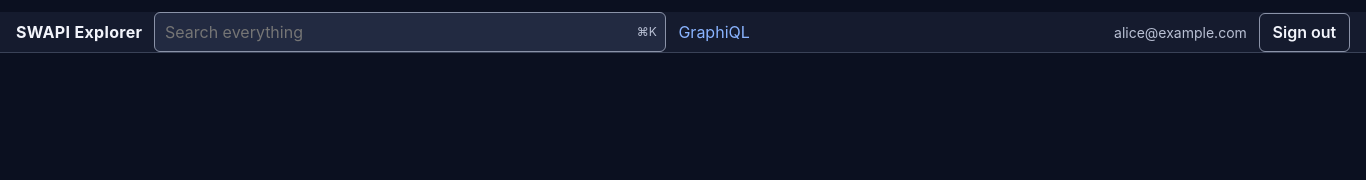
Test: ExplorerBanner › says so when nothing matches
Type "zzz" into the dropdown at (410, 32), box [154,12,666,52]
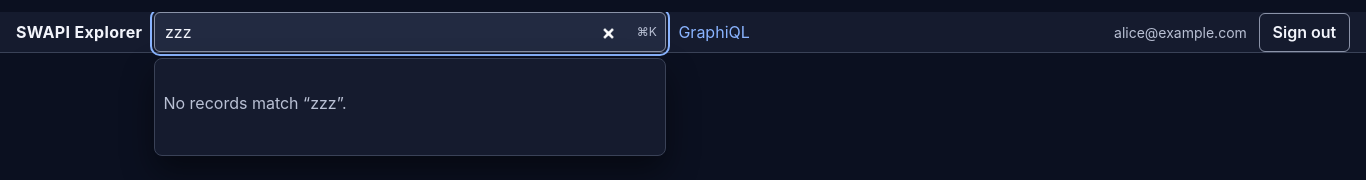
Now the text "No records match “zzz”." is shown, box [163,93,347,113]
